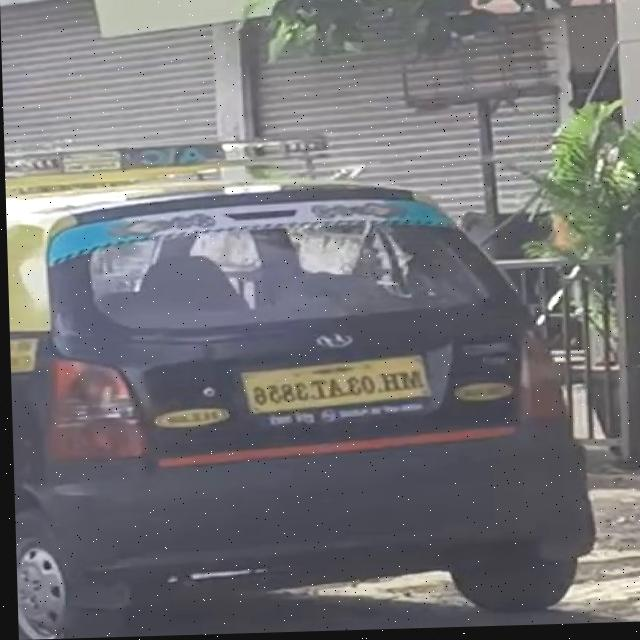plate: (231, 356, 434, 421)
